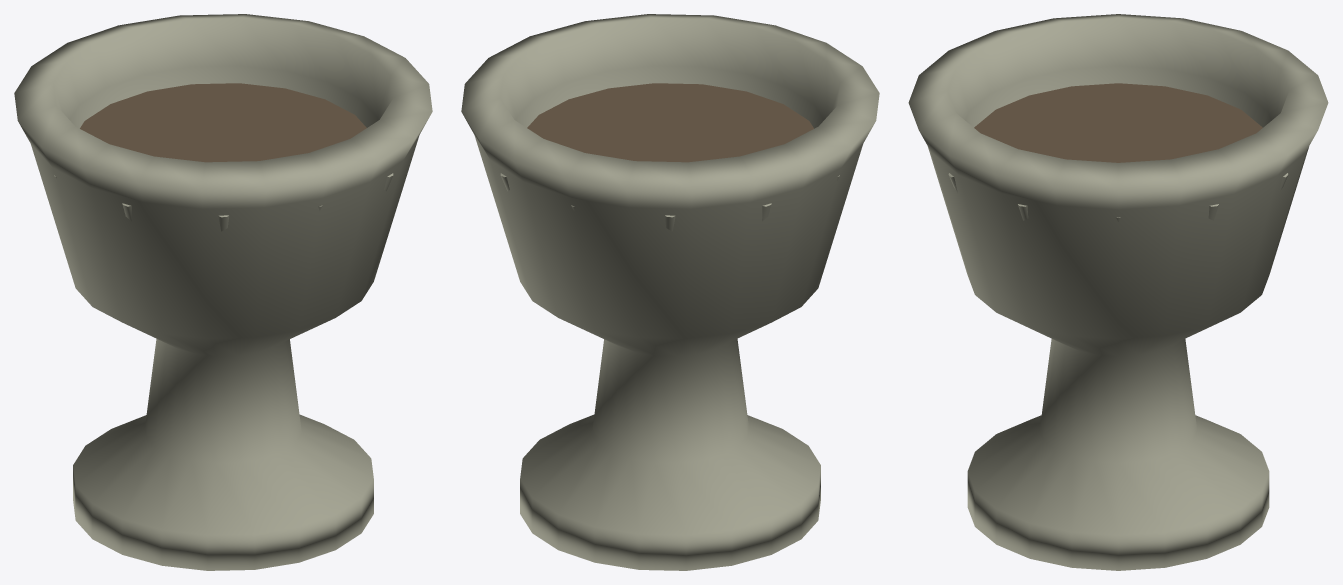
Rendered from almanac-gardens-stone-urn-5236cd3c__22017.glb.
3 renders of one model, left to right at view 1: azimuth 30°, elevation 25°; view 2: azimuth 150°, elevation 25°; view 3: azimuth 270°, elevation 25°, orthographic.
Parts seen in each view (by area): view 1: stone-urn-stone, stone-urn-soil; view 2: stone-urn-stone, stone-urn-soil; view 3: stone-urn-stone, stone-urn-soil.
Part boxes in pixels (bbox=[...]): stone-urn-stone: bbox=[14, 14, 432, 570]; stone-urn-soil: bbox=[80, 83, 366, 162]; stone-urn-stone: bbox=[461, 14, 879, 570]; stone-urn-soil: bbox=[527, 83, 813, 162]; stone-urn-stone: bbox=[908, 14, 1328, 570]; stone-urn-soil: bbox=[974, 83, 1262, 162].
Size of the model in its own units: 0.64 by 0.7 by 0.64.
